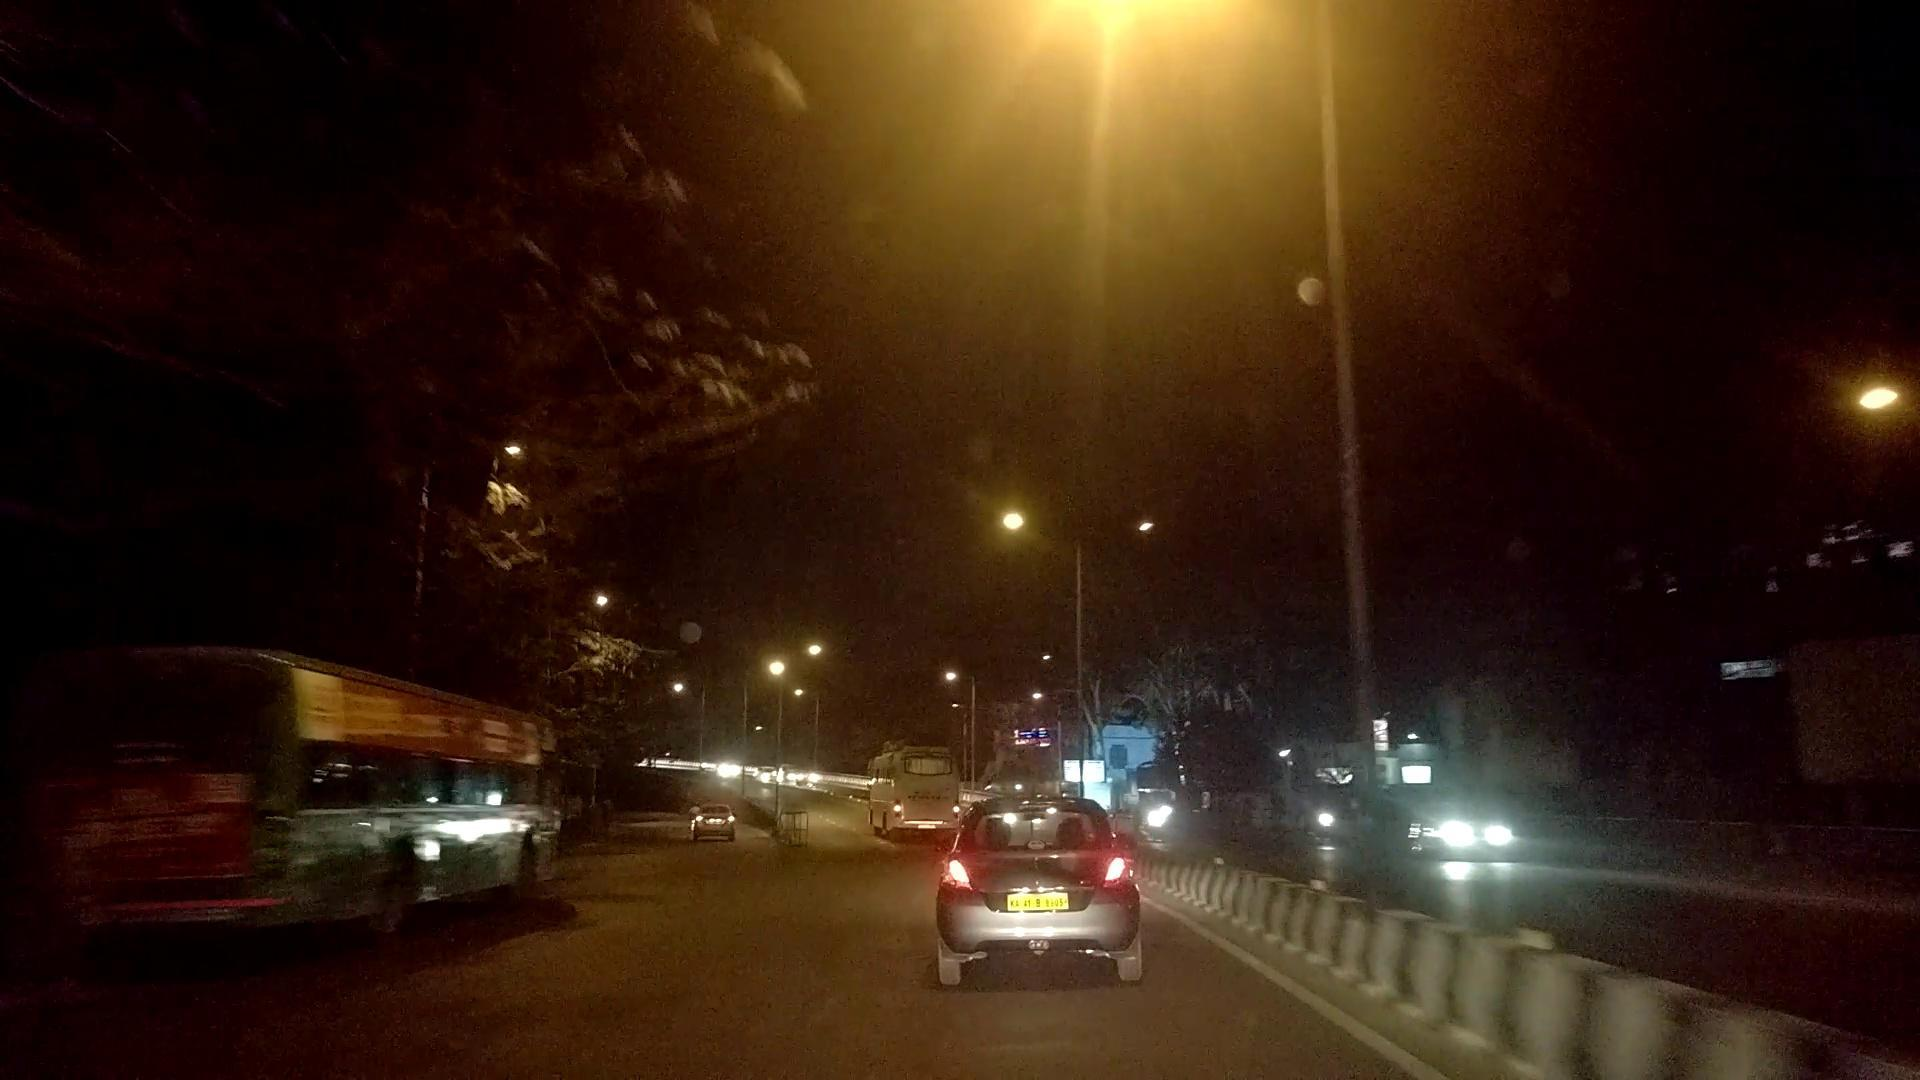on: (760, 0, 1503, 274)
